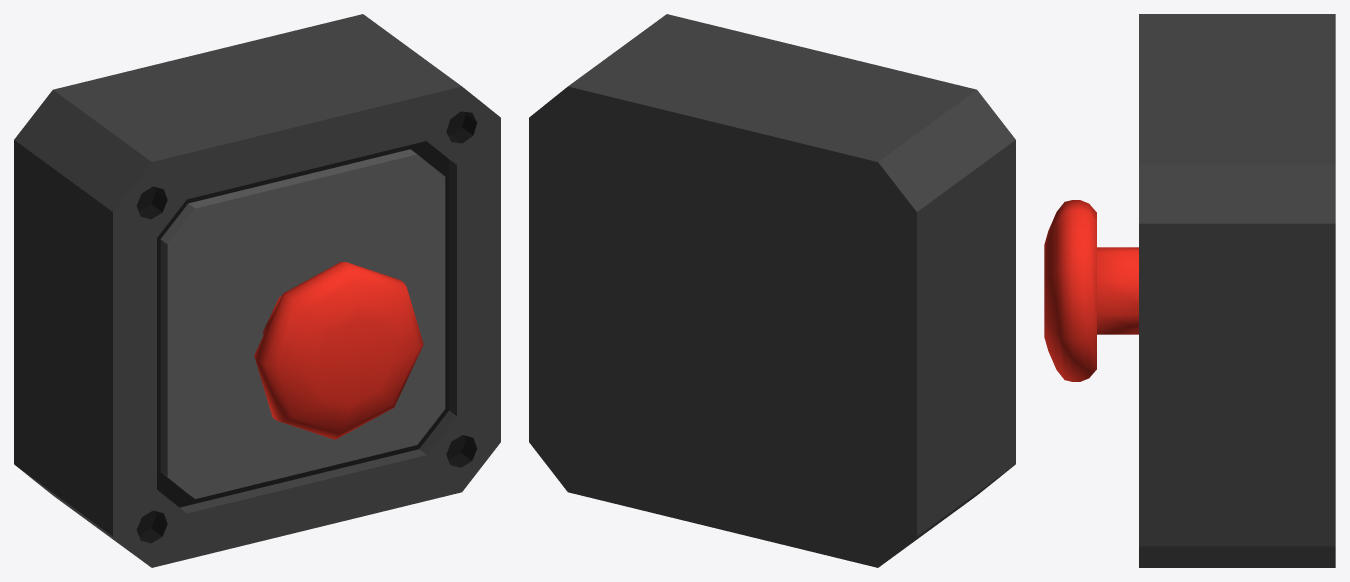
Rendered from botao.fbx.
3 renders of one model, left to right at view 1: azimuth 30°, elevation 25°; view 2: azimuth 150°, elevation 25°; view 3: azimuth 270°, elevation 25°, orthographic.
Parts seen in each view (by area): view 1: Porta.botao.ext, Porta.botao; view 2: Porta.botao.ext; view 3: Porta.botao.ext, Porta.botao.
Part boxes in pixels (x1,y1,x2,y2): Porta.botao.ext: (14,14,500,567); Porta.botao: (254,262,423,439); Porta.botao.ext: (529,14,1015,567); Porta.botao.ext: (1139,14,1335,567); Porta.botao: (1044,200,1138,381).
Size of the model in its own units: 1282 by 1282 by 840.
